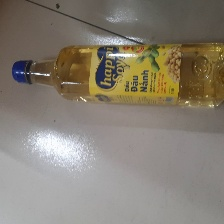Happy Soya: (10, 42, 224, 109)
